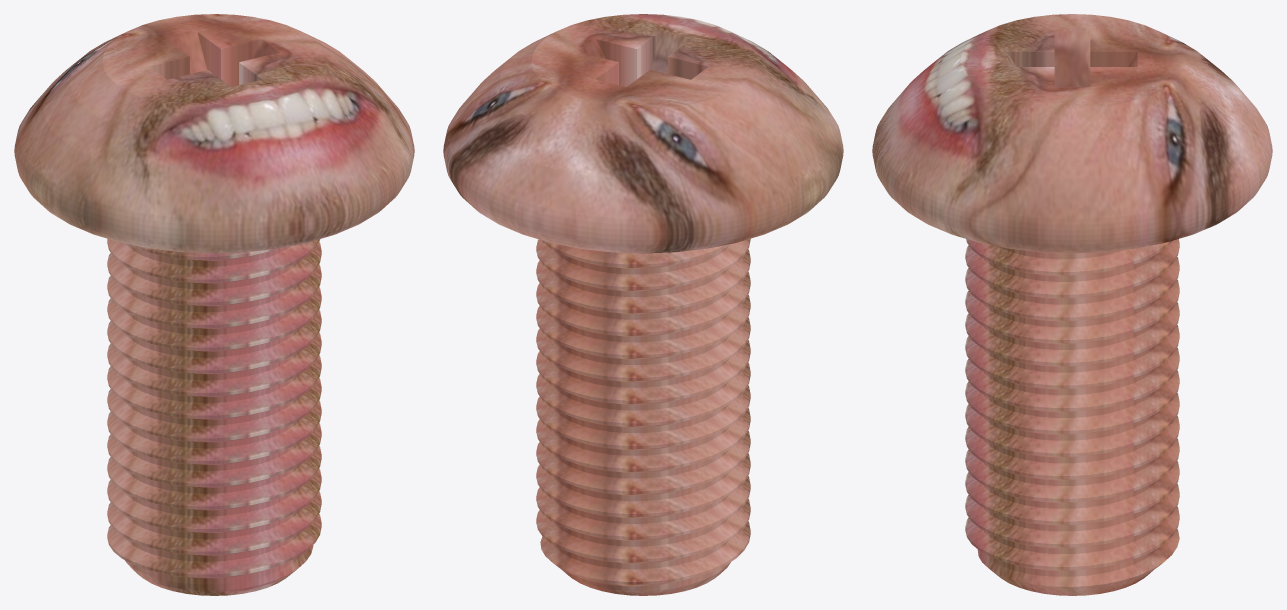
Rendered from kroeger-dome-phillips-bolt.glb.
3 views of the same model, side by side, from view 1: azimuth 30°, elevation 25°; view 2: azimuth 150°, elevation 25°; view 3: azimuth 270°, elevation 25° (orthographic).
Visible parts, largest first — view 1: Bolt.020; view 2: Bolt.020; view 3: Bolt.020.
Part boxes in pixels (x1,y1,x2,y2): Bolt.020: [14, 14, 414, 595]; Bolt.020: [443, 14, 843, 595]; Bolt.020: [872, 14, 1272, 595].
Size of the model in its own units: 0.0112 by 0.0155 by 0.0112.
1 material, 1 textured.
